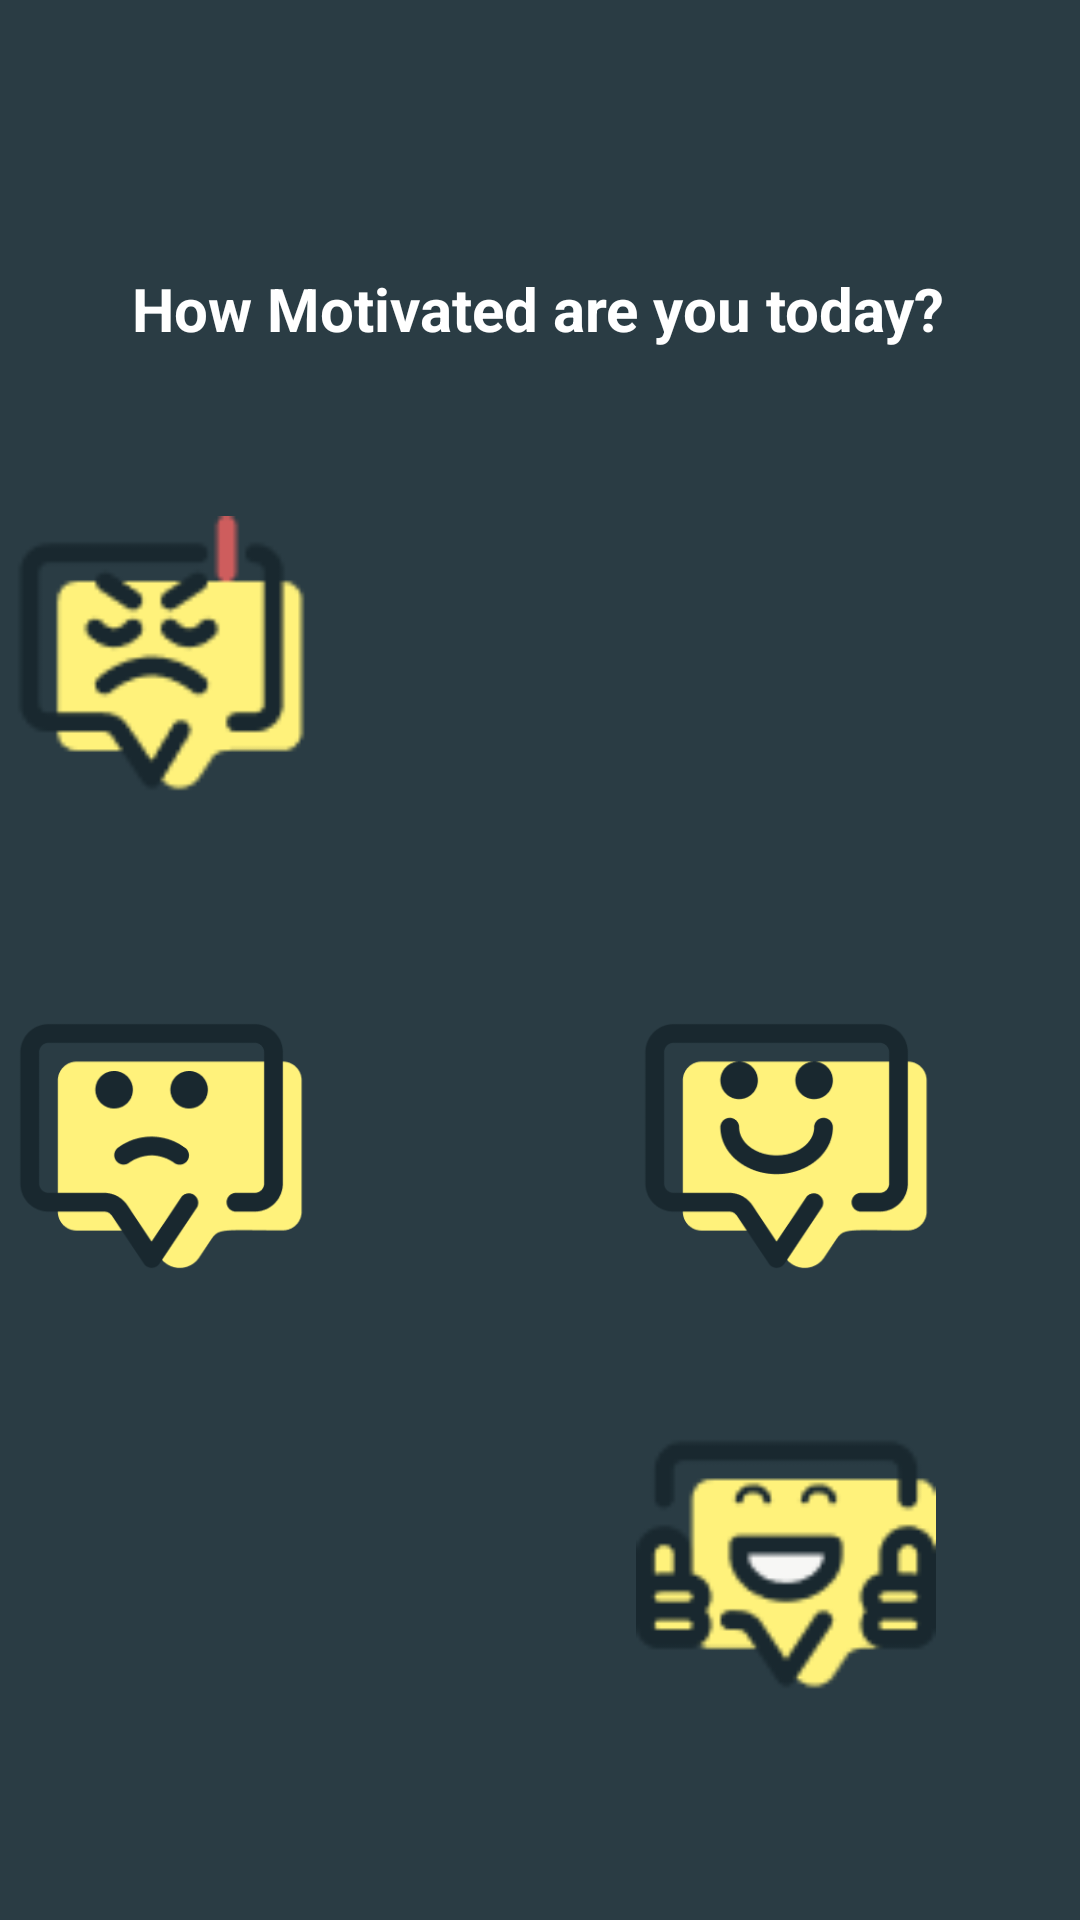

Icon click points for this 1080*1920 phone screenshot, format point (x, y):
boiled: point (180, 653)
sad: point (179, 1164)
smile: point (804, 1164)
thumbsup: point (795, 1583)
